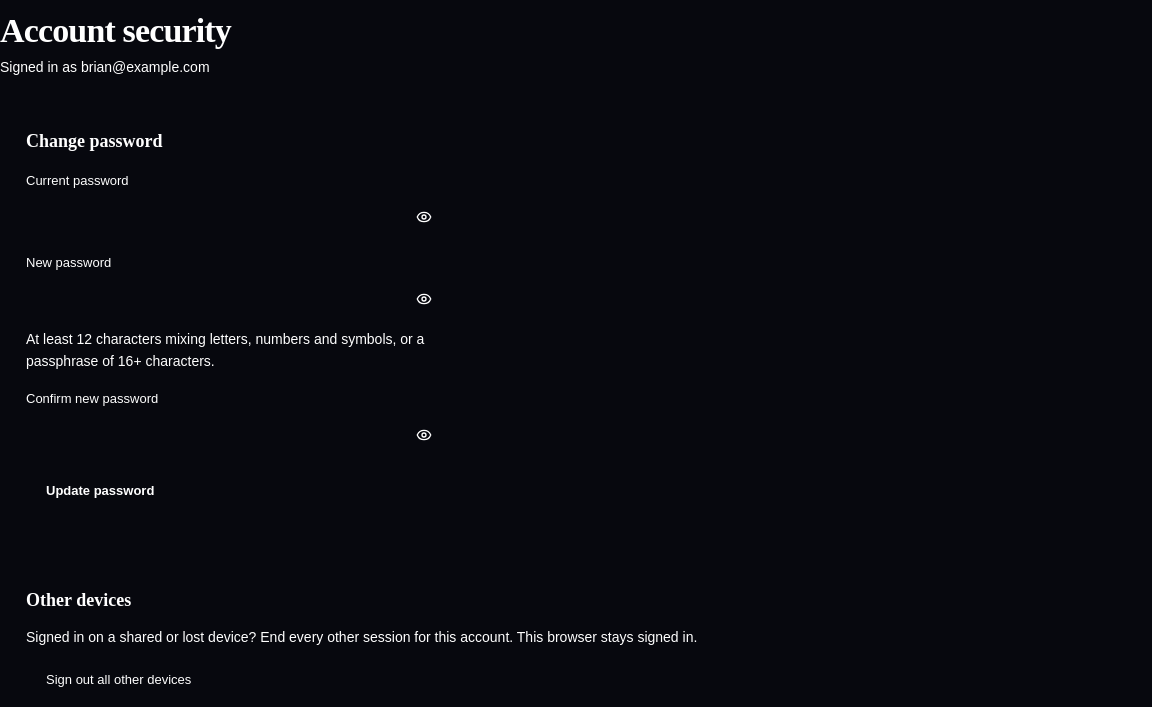
Scenario: sign out other devices › reports a failure
The width and height of the screenshot is (1152, 707).
Click the button "Sign out all other devices": (119, 680) [26,660,211,700]
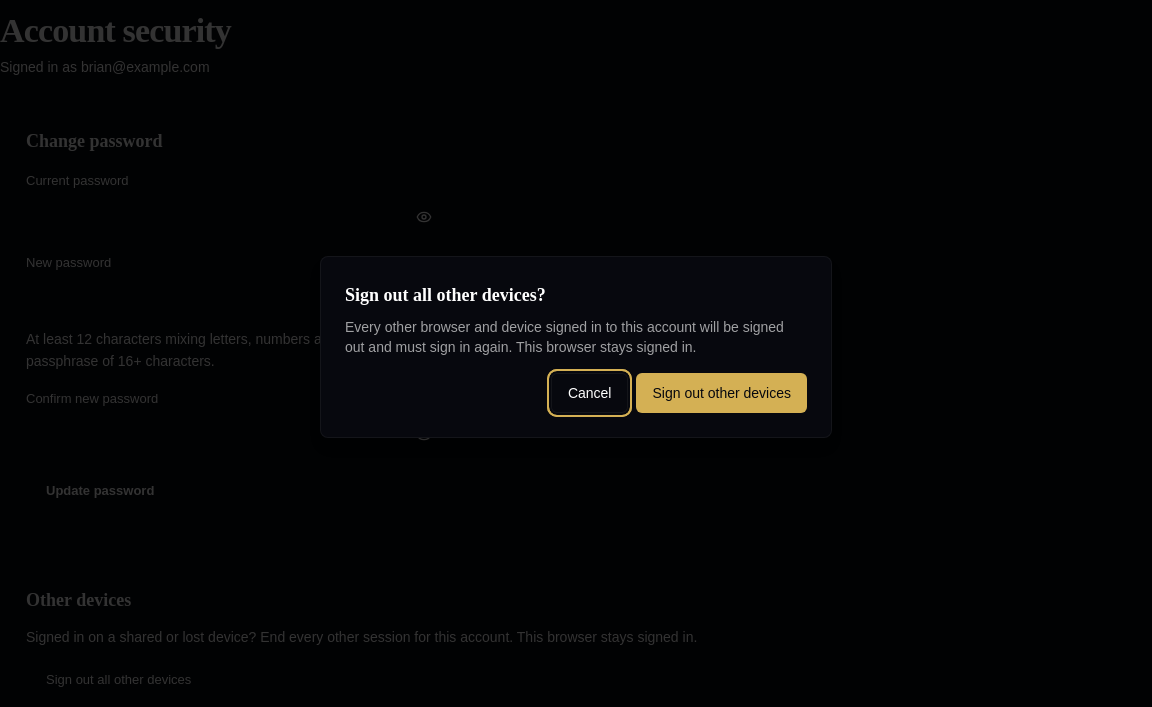
Click the button "Sign out other devices": (722, 393) [636,373,807,413]
(page scrolled)
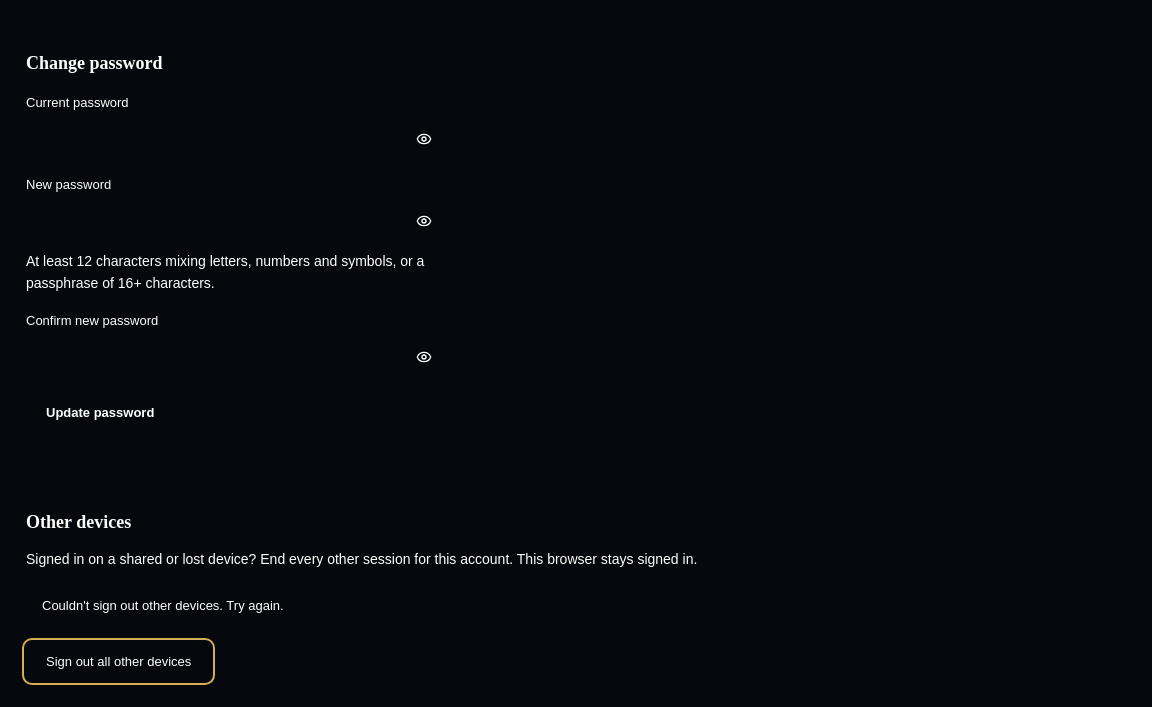
Expected: the message reads "Couldn't sign out other devices. Try again.", [42,598,284,613]
